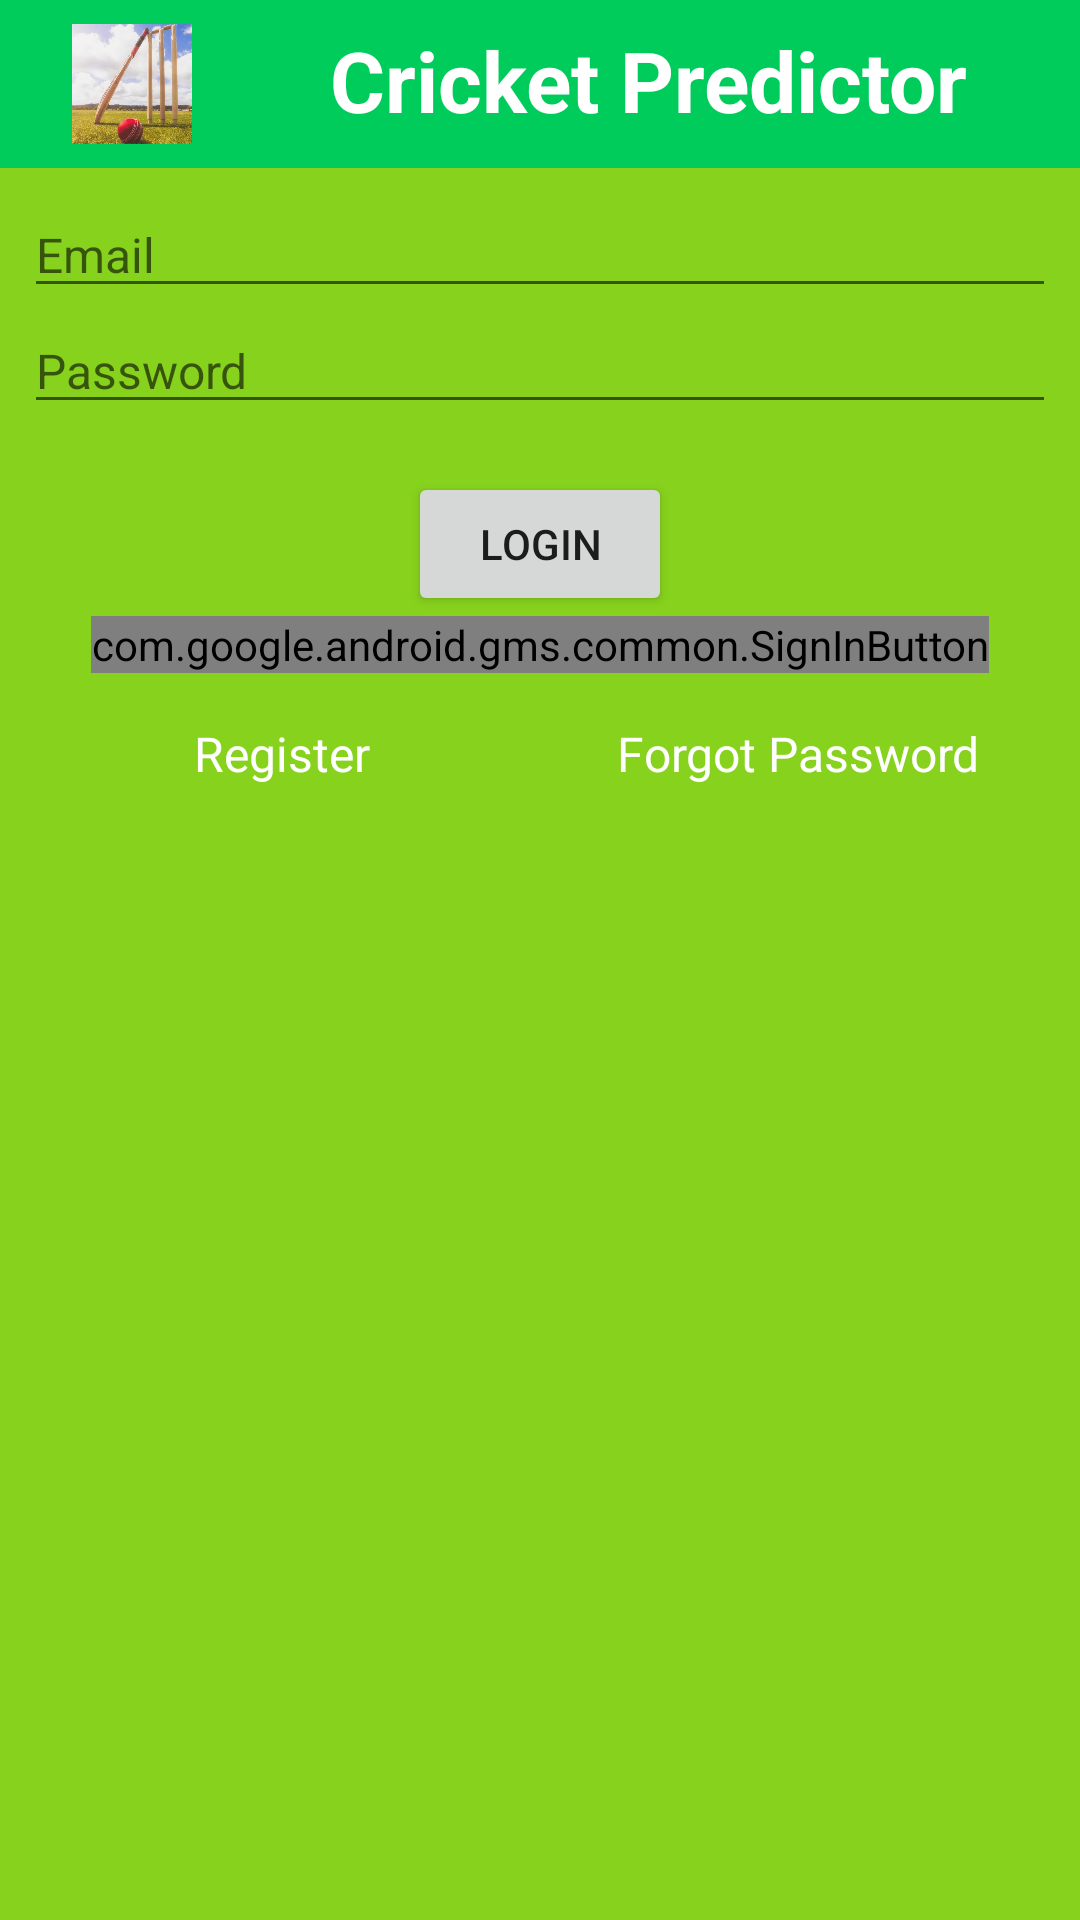

Where to tap for icons on this 1080x1920 app screen, as point (x, y):
cricpredict: point (132, 84)
